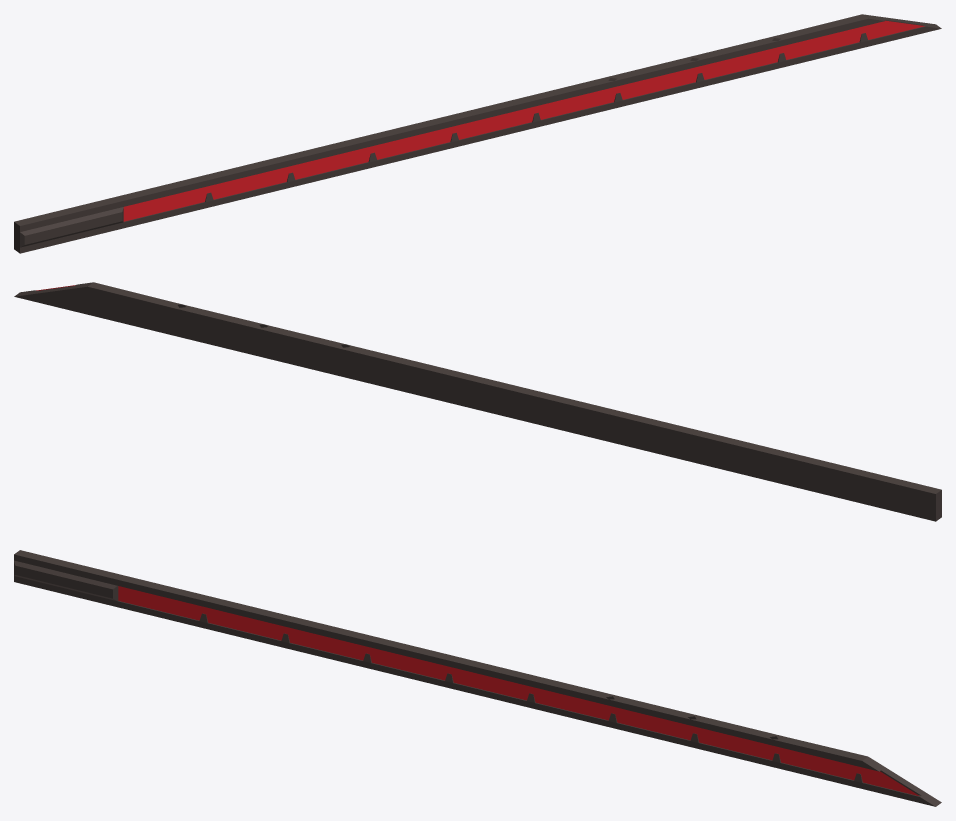
Rendered from hpbar.fbx.
3 views of the same model, one above another, from view 1: azimuth 30°, elevation 25°; view 2: azimuth 150°, elevation 25°; view 3: azimuth 330°, elevation 25° (orthographic).
Visible parts, largest first — view 1: hpbar, filling; view 2: hpbar; view 3: hpbar, filling.
Part boxes in pixels (left/top/right/bottom): hpbar: left=14, top=14, right=941, bottom=253; filling: left=123, top=20, right=924, bottom=221; hpbar: left=14, top=282, right=941, bottom=521; hpbar: left=14, top=550, right=941, bottom=806; filling: left=118, top=586, right=919, bottom=796.
Size of the model in its own units: 236 by 6.85 by 3.46.
